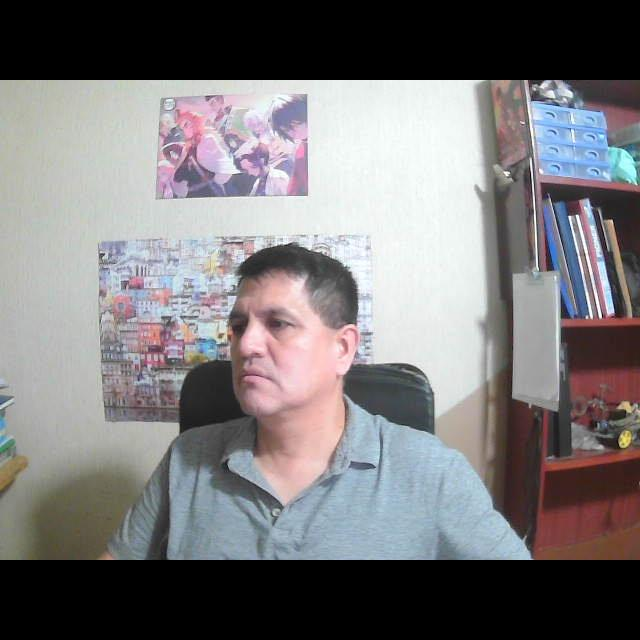cesar: (201, 233, 371, 447)
